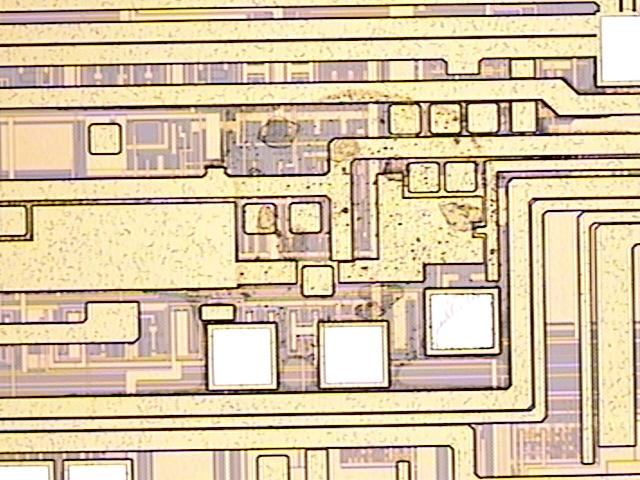PO CONTAMINATION: (201, 75, 526, 403)
